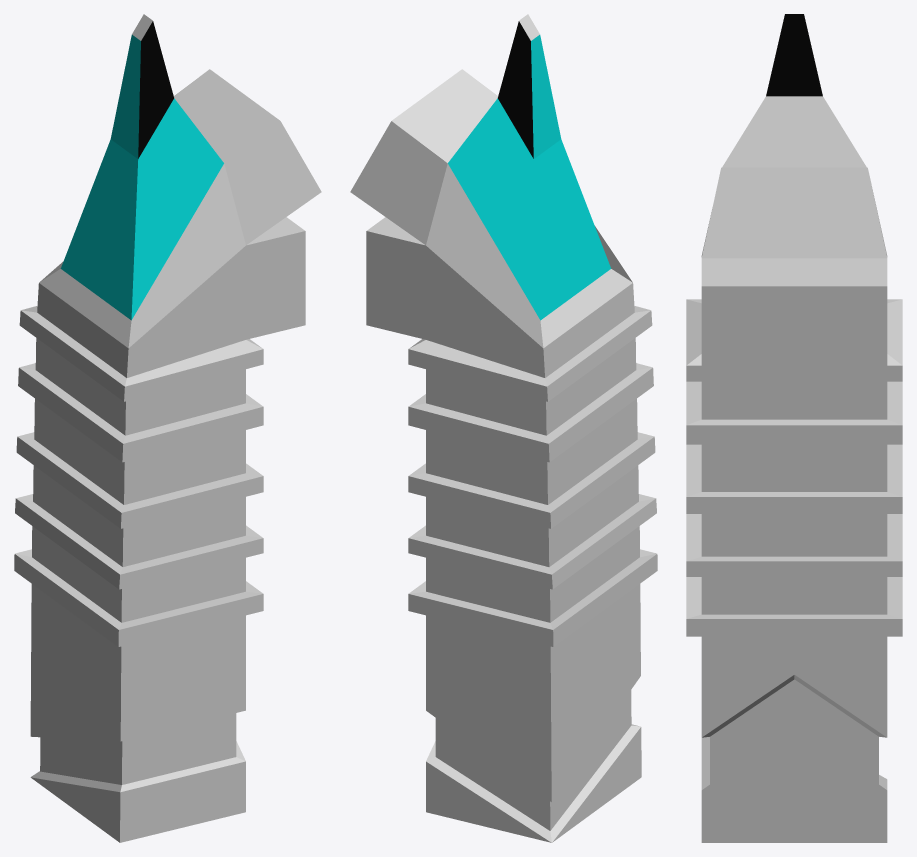
The model's file is Attachment_Tower_A.fbx.
3 views of the same model, side by side, from view 1: azimuth 30°, elevation 25°; view 2: azimuth 150°, elevation 25°; view 3: azimuth 270°, elevation 25° (orthographic). The views are drawn at different scales.
Visible parts, largest first — view 1: Attachment_Tower_A; view 2: Attachment_Tower_A; view 3: Attachment_Tower_A.
Part boxes in pixels (x1=…): Attachment_Tower_A: x1=14, y1=14, x2=321, y2=842; Attachment_Tower_A: x1=350, y1=14, x2=657, y2=842; Attachment_Tower_A: x1=686, y1=14, x2=902, y2=842.
Bounding box in the file's own units: 11.82 × 41.57 × 10.15.
